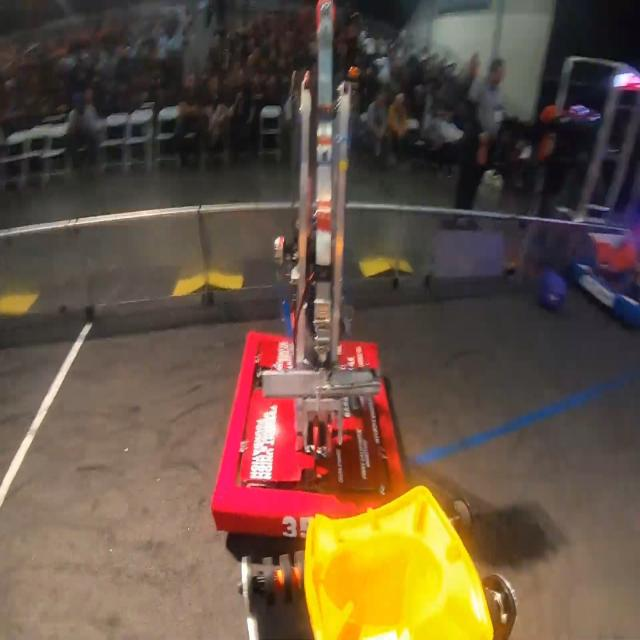robot: (210, 0, 410, 541), (572, 208, 640, 328)
